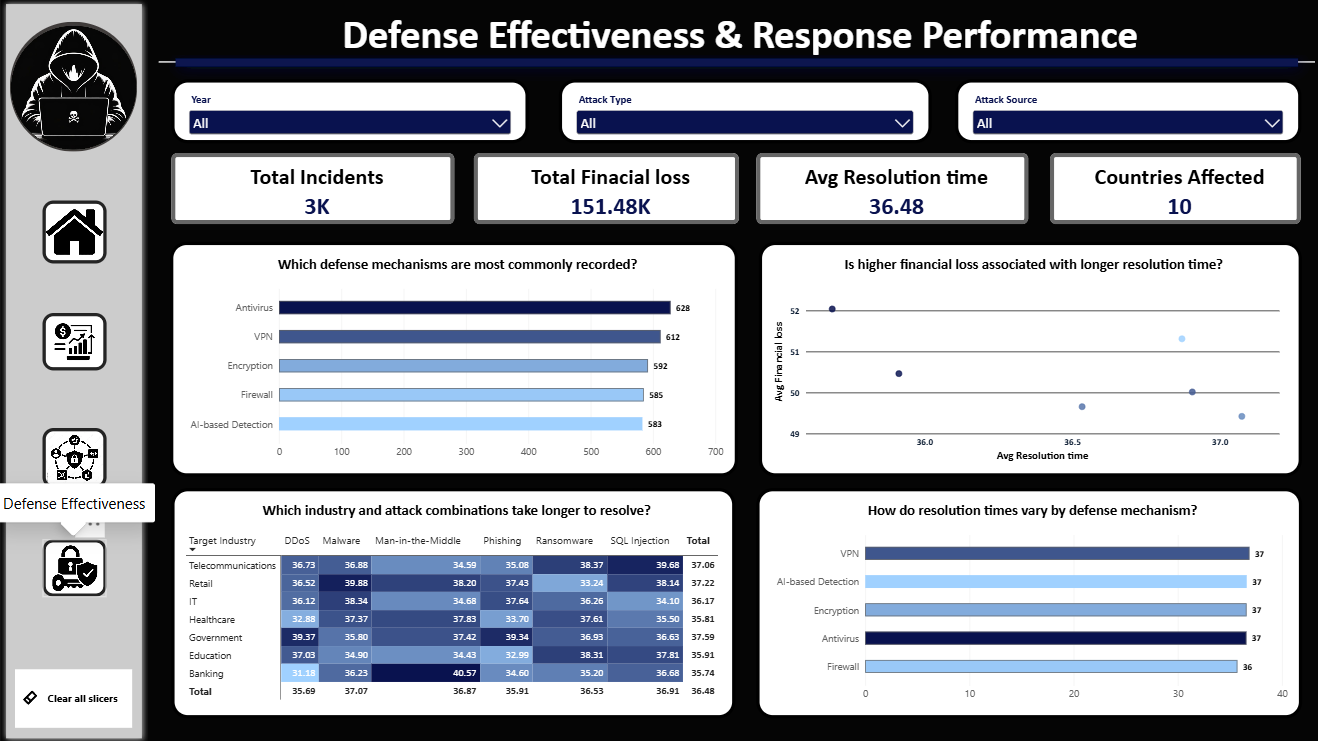

This screenshot's page, from the dashboard's own definition file:
{"tool":"powerbi","page":{"name":" Defense Effectiveness ","canvas":[1920,1080],"ordinal":3},"visuals":[{"type":"textbox","box":[246.6,16.2,1637.4,76.8],"z":0},{"type":"shape","box":[0,0,214.1,1080.6],"z":1000},{"type":"shape","box":[230.4,80.9,1673.8,22.2],"z":2000},{"type":"image","box":[60.6,293.1,93,91],"z":3000},{"type":"shape","box":[230.4,64.7,1673.8,56.6],"z":4000},{"type":"image","box":[60.6,456.9,93,82.9],"z":5000},{"type":"image","box":[60.6,622.6,93,86.9],"z":6000},{"type":"image","box":[60.6,784.3,93,82.9],"z":7000},{"type":"slicer","fields":{"Values":["Global_Cybersecurity_Threats_20.Year"]},"box":[248.6,117.2,517.5,93],"z":8000},{"type":"slicer","fields":{"Values":["Table1.Attack Type"]},"box":[808.6,117.2,539.7,93],"z":9000},{"type":"slicer","fields":{"Values":["Global_Cybersecurity_Threats_20.Attack Source"]},"box":[1382.7,117.2,501.3,93],"z":10000},{"type":"actionButton","box":[22.2,972.3,169.8,84.9],"z":11000},{"type":"cardVisual","fields":{"Data":["Measure.Total Incidents"]},"box":[248.6,224.4,410.4,103.1],"z":12000},{"type":"cardVisual","fields":{"Data":["Measure.Total Finacial loss"]},"box":[685.3,224.4,384.1,103.1],"z":13000},{"type":"cardVisual","fields":{"Data":["Measure.Avg Resolution time"]},"box":[1095.6,224.4,394.2,103.1],"z":14000},{"type":"cardVisual","fields":{"Data":["Measure.Countries Affected"]},"box":[1520.2,224.4,363.9,103.1],"z":15000},{"type":"image","box":[14,34.9,183.7,188.4],"z":16000},{"type":"barChart","title":"Which defense mechanisms are most commonly recorded?","fields":{"Category":["Global_Cybersecurity_Threats_20.Defense Mechanism Used"],"Y":["Measure.Total Incidents"]},"box":[246.6,353.8,822.7,339.6],"z":17000},{"type":"pivotTable","title":"Which industry and attack combinations take longer to resolve?","fields":{"Columns":["Table1.Attack Type"],"Rows":["Global_Cybersecurity_Threats_20.Target Industry"],"Values":["Measure.Avg Resolution time"]},"box":[248.6,709.5,816.7,333.5],"z":18000},{"type":"barChart","title":"How do resolution times vary by defense mechanism?","fields":{"Category":["Global_Cybersecurity_Threats_20.Defense Mechanism Used"],"Y":["Measure.Avg Resolution time"]},"box":[1095.6,709.5,790.4,333.5],"z":19000},{"type":"scatterChart","title":"Is higher financial loss associated with longer resolution time?","fields":{"Series":["Table1.Attack Type"],"X":["Measure.Avg Resolution time"],"Y":["Measure.Avg Financial loss"]},"box":[1097.7,353.8,786.4,339.6],"z":20000}]}

Visuals, with their boxes in screenshot pixels (x1, y1, x2, y2), scaled from the page's 1920x1080 canvas onto the 1318x741 screenshot:
textbox: region(169, 11, 1293, 64)
shape: region(0, 0, 147, 740)
shape: region(158, 56, 1307, 71)
image: region(42, 201, 105, 264)
shape: region(158, 44, 1307, 83)
image: region(42, 313, 105, 370)
image: region(42, 427, 105, 487)
image: region(42, 538, 105, 595)
slicer - Global_Cybersecurity_Threats_20.Year: region(171, 80, 526, 144)
slicer - Table1.Attack Type: region(555, 80, 926, 144)
slicer - Global_Cybersecurity_Threats_20.Attack Source: region(949, 80, 1293, 144)
actionButton: region(15, 667, 132, 725)
cardVisual - Measure.Total Incidents: region(171, 154, 452, 225)
cardVisual - Measure.Total Finacial loss: region(470, 154, 734, 225)
cardVisual - Measure.Avg Resolution time: region(752, 154, 1023, 225)
cardVisual - Measure.Countries Affected: region(1044, 154, 1293, 225)
image: region(10, 24, 136, 153)
"Which defense mechanisms are most commonly recorded?" barChart: region(169, 243, 734, 476)
"Which industry and attack combinations take longer to resolve?" pivotTable: region(171, 487, 731, 716)
"How do resolution times vary by defense mechanism?" barChart: region(752, 487, 1295, 716)
"Is higher financial loss associated with longer resolution time?" scatterChart: region(754, 243, 1293, 476)
